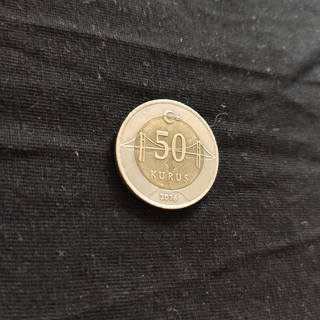50KURUS: (111, 97, 220, 214)
